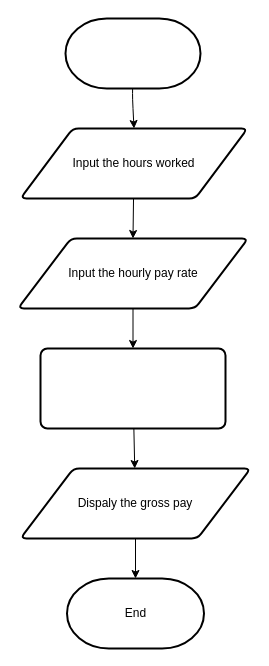
This 269x666 diagram has some shape labels left out. The centre of each missing label's shape, as x and y in pixels:
"Calculate gross pay as hours worked multiplied by pay rate" belongs at point 132,388.
"start" belongs at point 132,53.
